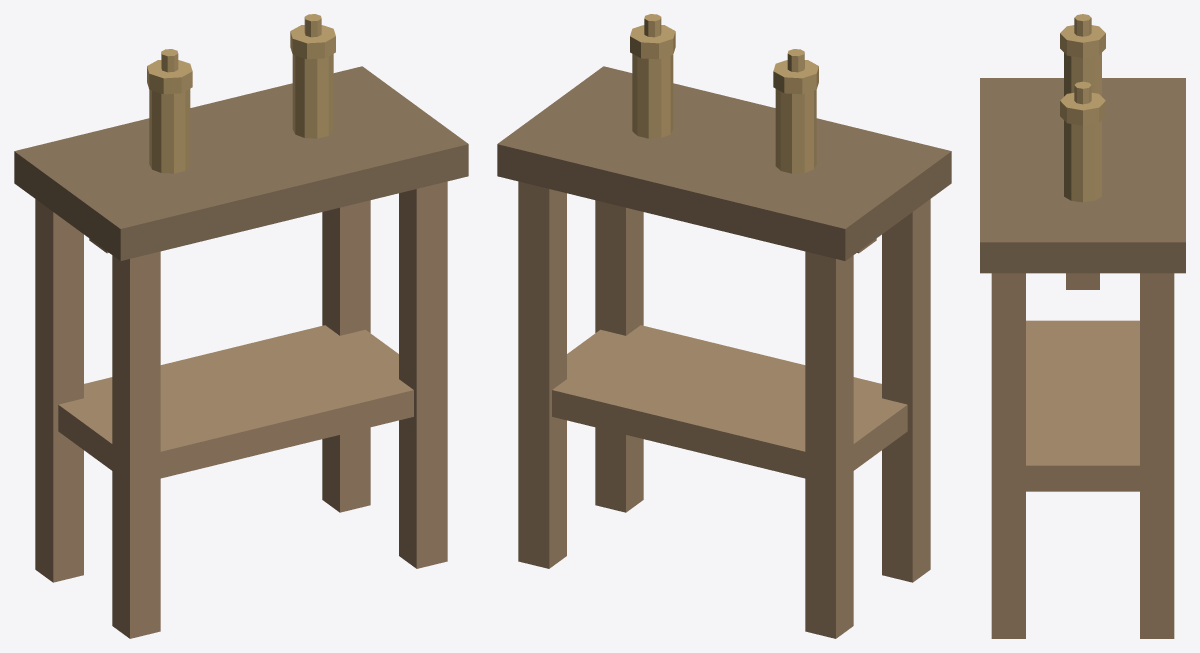
File: prop-credence-table-wood.fbx
3 views of the same model, side by side, from view 1: azimuth 30°, elevation 25°; view 2: azimuth 150°, elevation 25°; view 3: azimuth 270°, elevation 25° (orthographic). The views are drawn at different scales.
Parts seen in each view (by area): view 1: prop-credence-table-wood; view 2: prop-credence-table-wood; view 3: prop-credence-table-wood.
Boxes of the visible parts, x1,y1,x2,y2 form: prop-credence-table-wood: (14, 14, 468, 638); prop-credence-table-wood: (497, 14, 951, 638); prop-credence-table-wood: (980, 14, 1185, 638).
Bounding box in the file's own units: 0.68 × 0.99 × 0.36.
